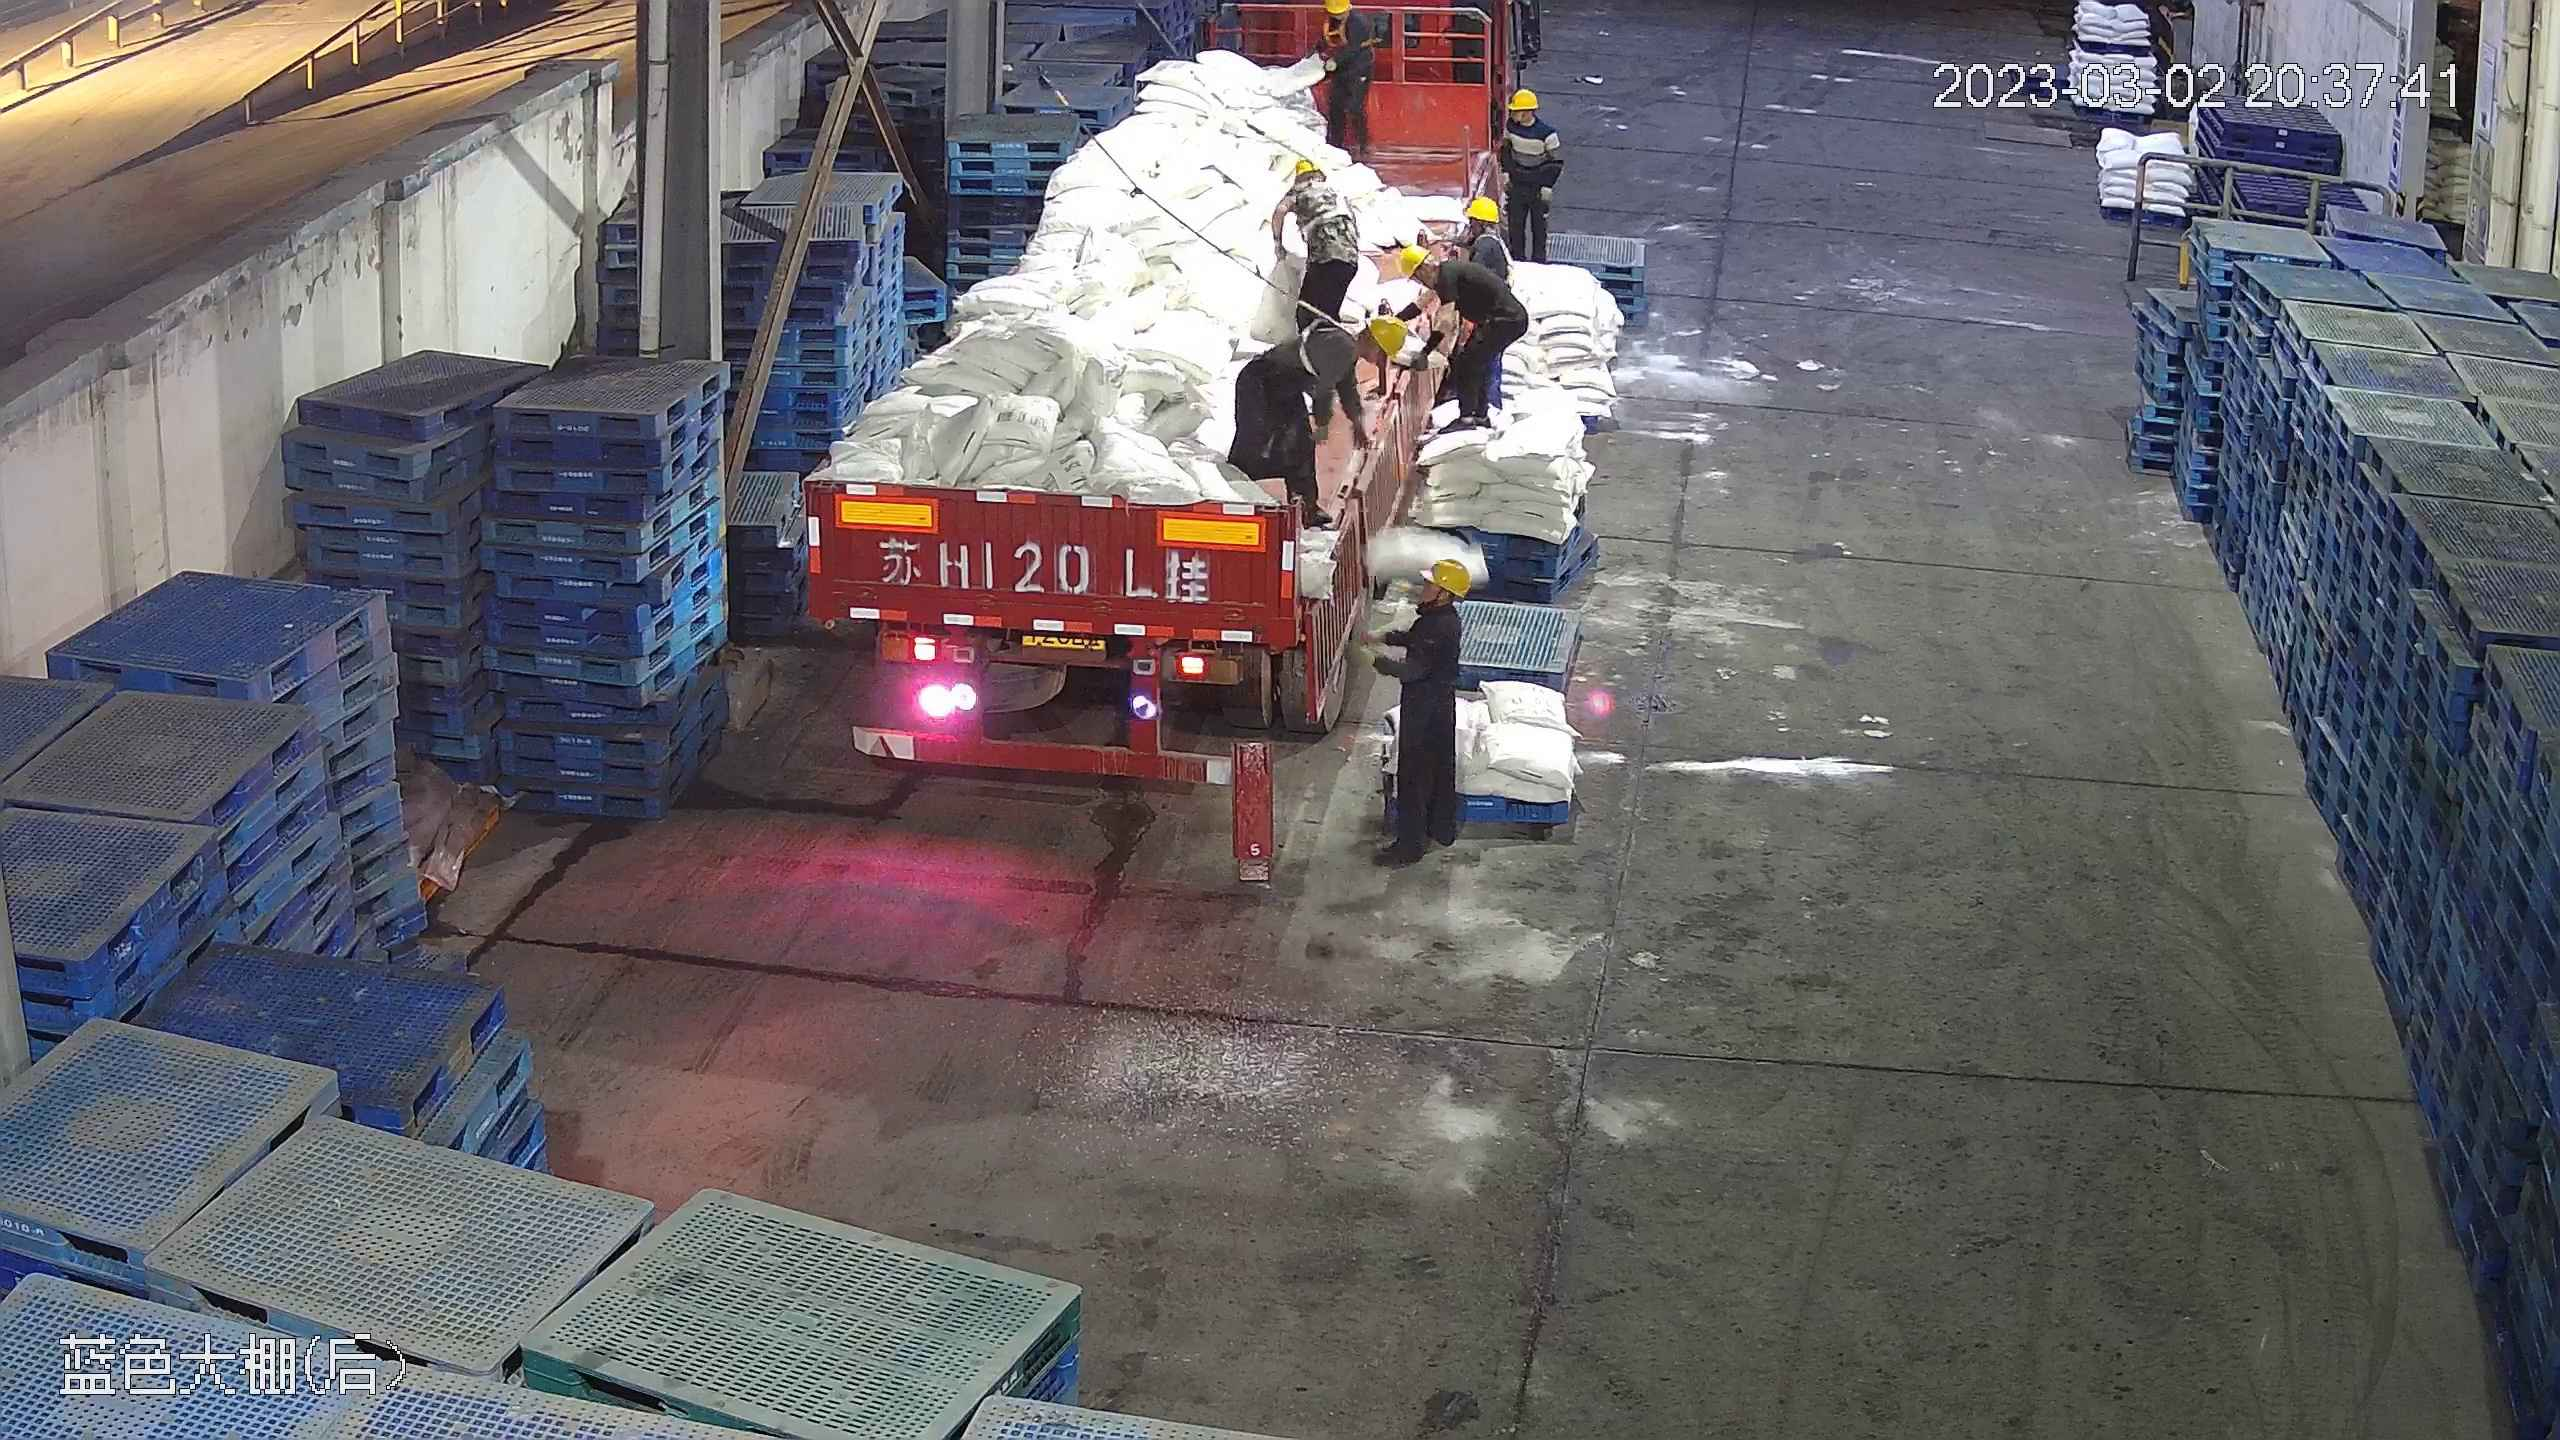belt: (1280, 311, 1356, 385), (1297, 176, 1353, 236), (1319, 1, 1371, 53), (1477, 224, 1516, 270)
head: (1295, 311, 1406, 386), (1398, 556, 1472, 650), (1394, 239, 1472, 305), (1277, 158, 1350, 225), (1445, 194, 1509, 268), (1498, 87, 1558, 145), (1316, 1, 1368, 44)
helmet: (1363, 310, 1410, 363), (1423, 556, 1472, 597), (1319, 1, 1366, 37), (1393, 241, 1431, 276), (1289, 156, 1327, 182), (1466, 192, 1500, 222), (1510, 88, 1539, 111)
people: (1219, 307, 1411, 538), (1357, 556, 1469, 866), (1387, 223, 1525, 437), (1266, 153, 1361, 335), (1491, 88, 1565, 276), (1305, 1, 1376, 166)
truck: (790, 1, 1528, 794)
